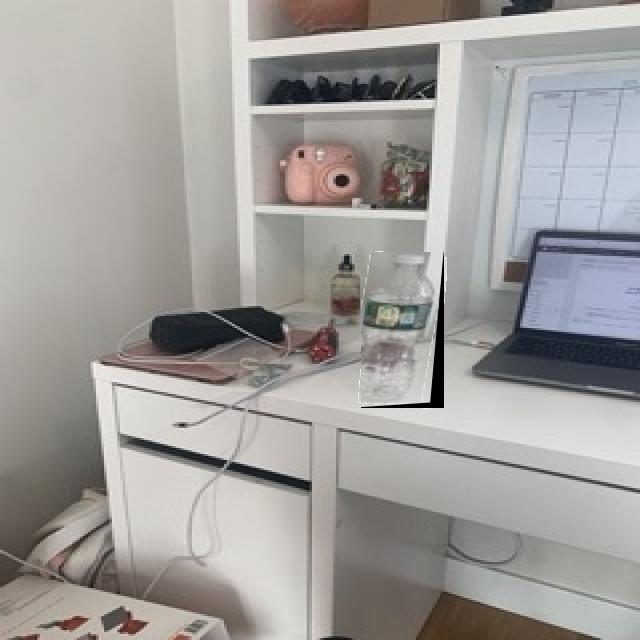water_bottle: (361, 252, 444, 408)
